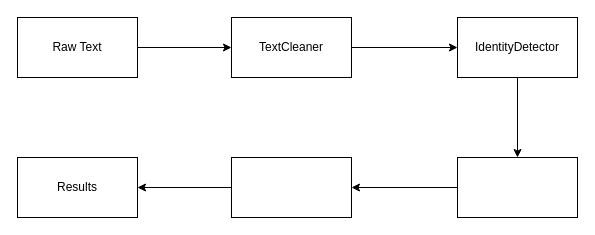
Image size: 595x235. Some labels were removed from this diagram. Each missing label, with the centre of its shape:
"ContextAnalyzer" goes at pixel 517 187.
"ToxicityModel" goes at pixel 291 187.
